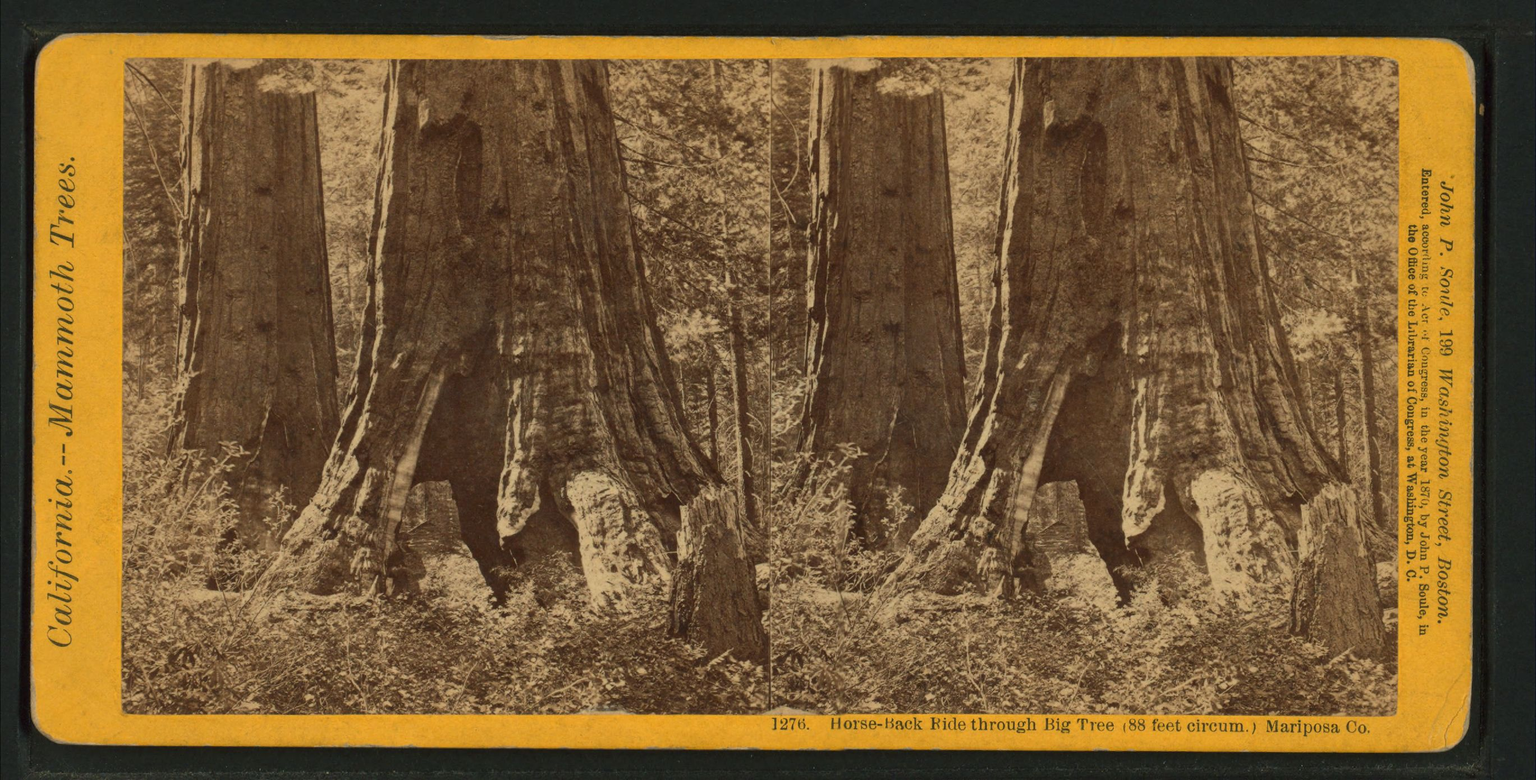half_image: (123, 58, 768, 715), (771, 59, 1399, 715)
